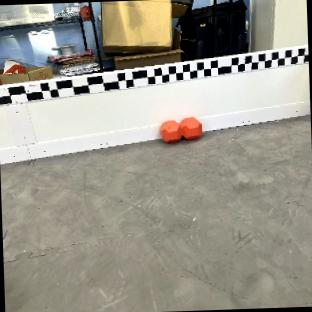V5_RED: (159, 115, 203, 143)
